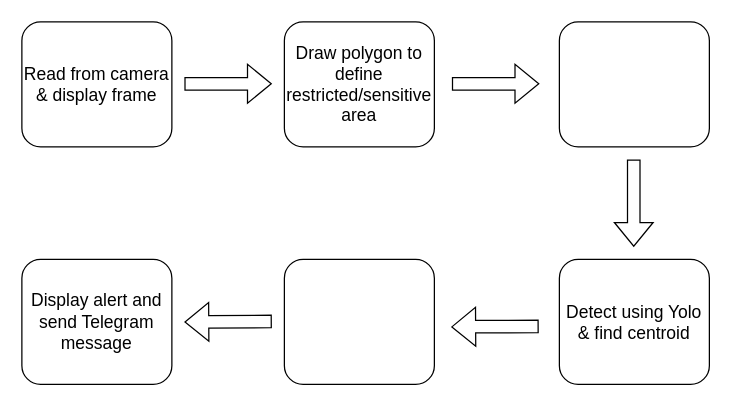
The diagram is 731 pixels wide and 406 high, and some of its shapes have lost their labels. Each missing label, with the centre of its shape:
"Check if centroids in restricted/sensitive area" goes at pixel 358 321.
"Define detect object" goes at pixel 633 84.
